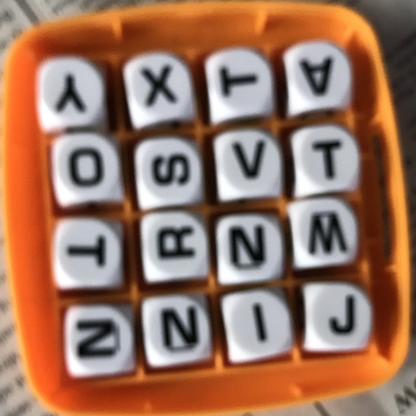a: (292, 42, 345, 101)
i: (237, 296, 287, 354)
j: (319, 284, 375, 348)
n: (70, 305, 131, 371), (154, 299, 211, 364), (222, 219, 278, 278)
o: (59, 142, 118, 192)
r: (152, 217, 204, 273)
s: (147, 146, 197, 196)
t: (56, 224, 116, 283), (212, 54, 269, 106), (305, 131, 354, 188)
v: (224, 133, 278, 184)
w: (305, 204, 360, 267)
x: (132, 57, 187, 116)
y: (42, 62, 99, 123)
